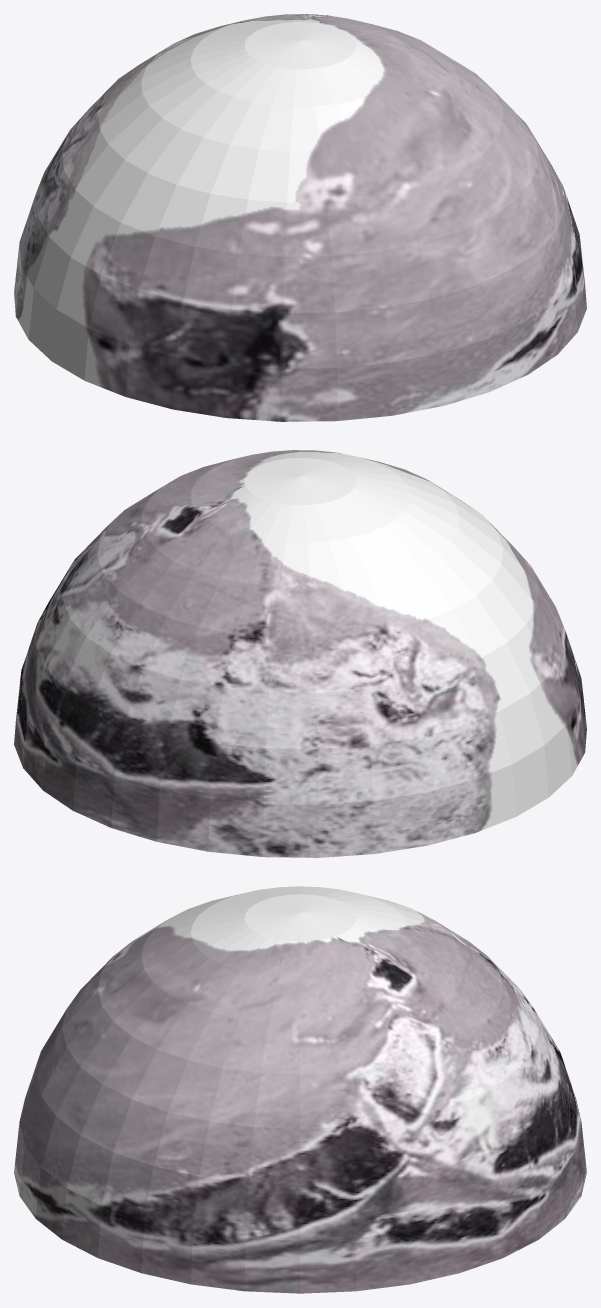
Rendered from Niquel.glb.
3 views of the same model, one above another, from view 1: azimuth 30°, elevation 25°; view 2: azimuth 150°, elevation 25°; view 3: azimuth 270°, elevation 25° (orthographic).
Parts seen in each view (by area): view 1: Esfera; view 2: Esfera; view 3: Esfera.
Part boxes in pixels (x1,y1,x2,y2): Esfera: [14, 14, 586, 421]; Esfera: [14, 450, 586, 857]; Esfera: [14, 886, 586, 1293].
Bounding box in the file's own units: 2 × 1 × 2.
Materials: 1 (1 with a texture image).
